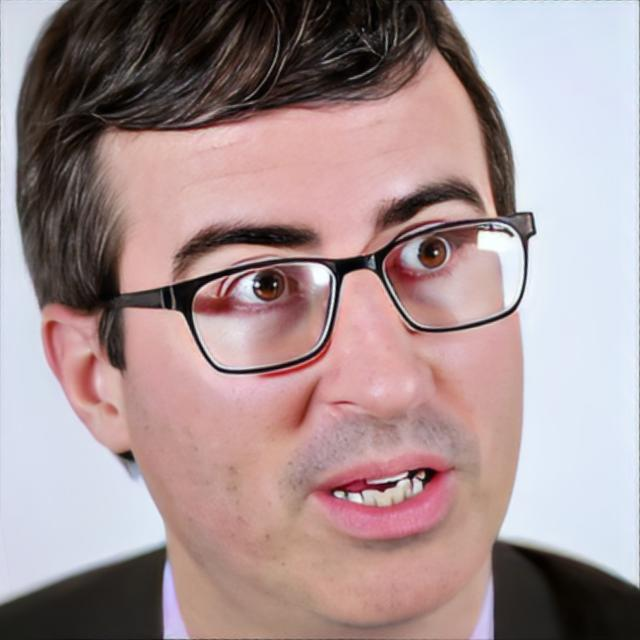surprise: (123, 63, 529, 630)
